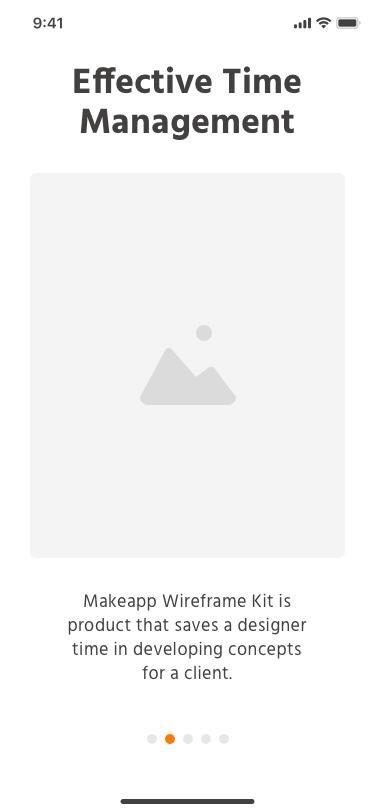Image: (31, 174, 344, 559)
PageIndicator: (147, 734, 232, 745)
Text: (67, 594, 307, 680), (74, 67, 302, 142)
UpperTaskBar: (34, 16, 362, 30)
